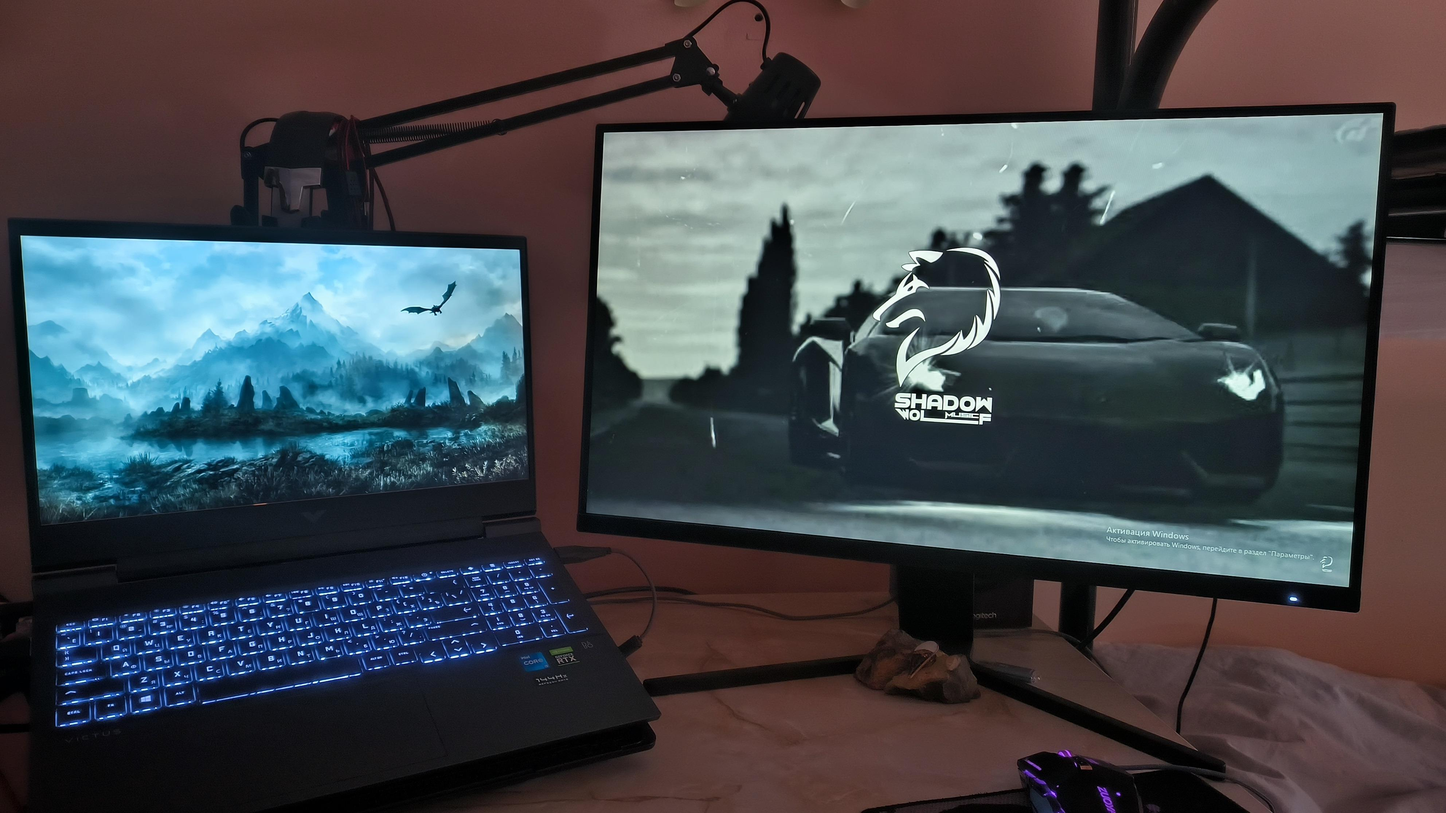monitor: (568, 98, 1405, 619), (4, 211, 545, 583)
